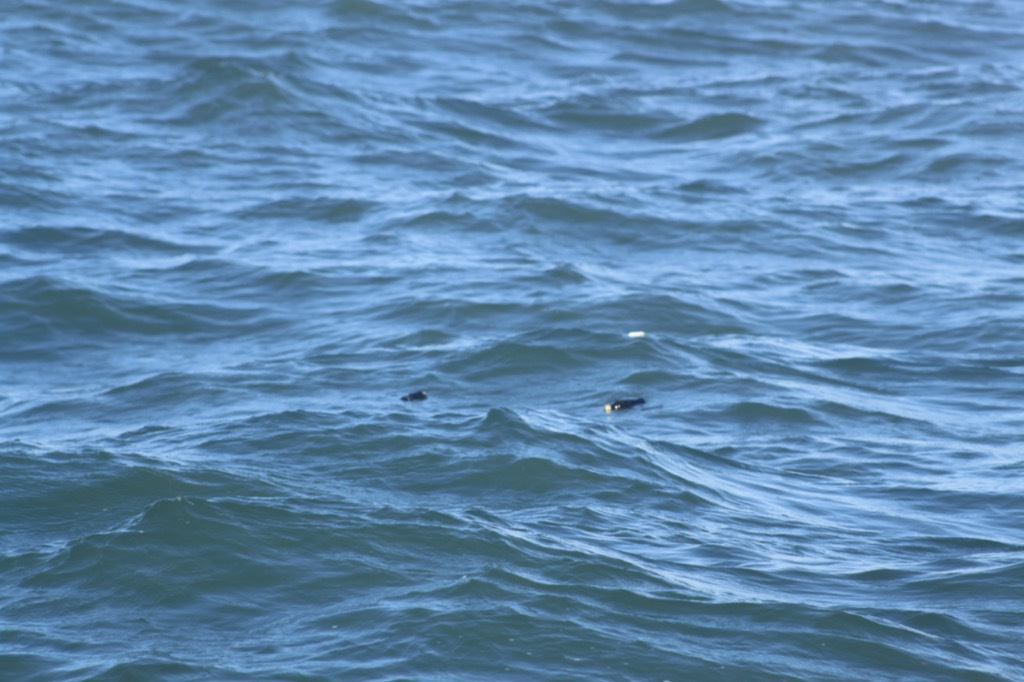plastic: (374, 346, 468, 439), (594, 288, 677, 373), (568, 375, 672, 441)
